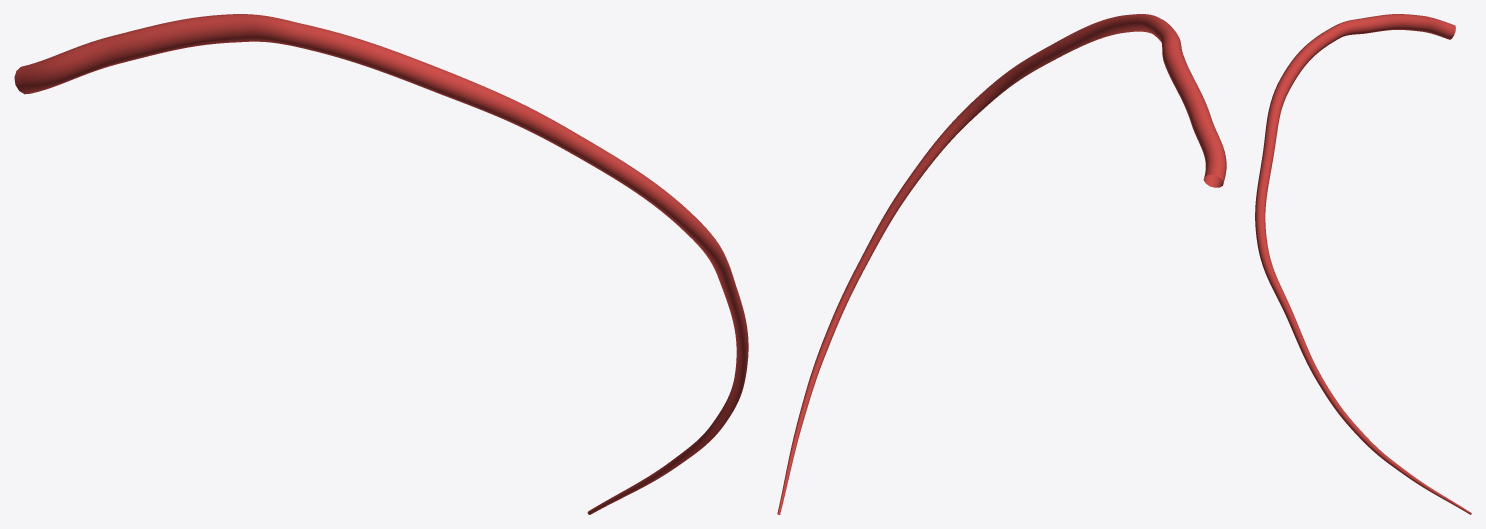
3 renders of one model, left to right at view 1: azimuth 30°, elevation 25°; view 2: azimuth 150°, elevation 25°; view 3: azimuth 270°, elevation 25°, orthographic. The views are drawn at different scales.
Parts seen in each view (by area): view 1: 左侧髂腰动脉髂支; view 2: 左侧髂腰动脉髂支; view 3: 左侧髂腰动脉髂支.
Part boxes in pixels (box(x1,y1,x2,y2)): 左侧髂腰动脉髂支: box(14, 14, 748, 514); 左侧髂腰动脉髂支: box(777, 14, 1226, 514); 左侧髂腰动脉髂支: box(1255, 14, 1471, 514).
Bounding box in the file's own units: 0.1304 × 0.1348 × 0.0702.
